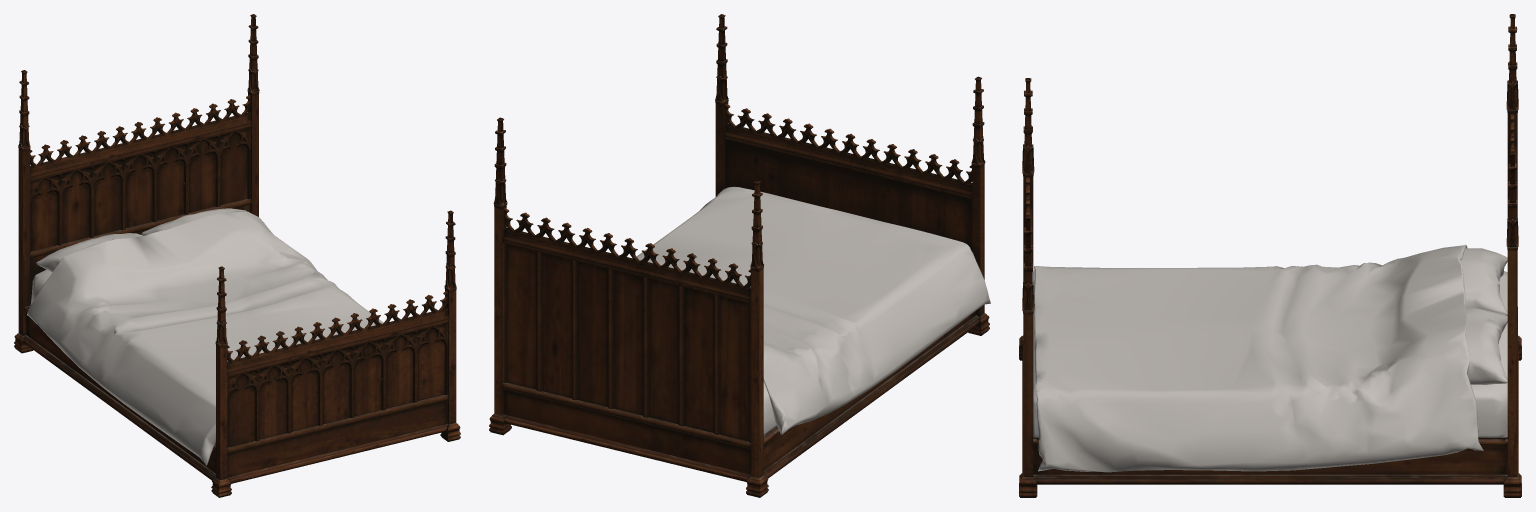
File: GothicBed_01_2k.gltf
3 views of the same model, side by side, from view 1: azimuth 30°, elevation 25°; view 2: azimuth 150°, elevation 25°; view 3: azimuth 270°, elevation 25° (orthographic). The views are drawn at different scales.
Visible parts, largest first — view 1: GothicBed_01; view 2: GothicBed_01; view 3: GothicBed_01.
Part boxes in pixels (box(x1,y1,x2,y2)): GothicBed_01: box(14, 14, 460, 497); GothicBed_01: box(489, 14, 990, 497); GothicBed_01: box(1019, 14, 1521, 497).
Bounding box in the file's own units: 1.49 × 1.53 × 2.04.
Materials: 1 (1 with a texture image).
